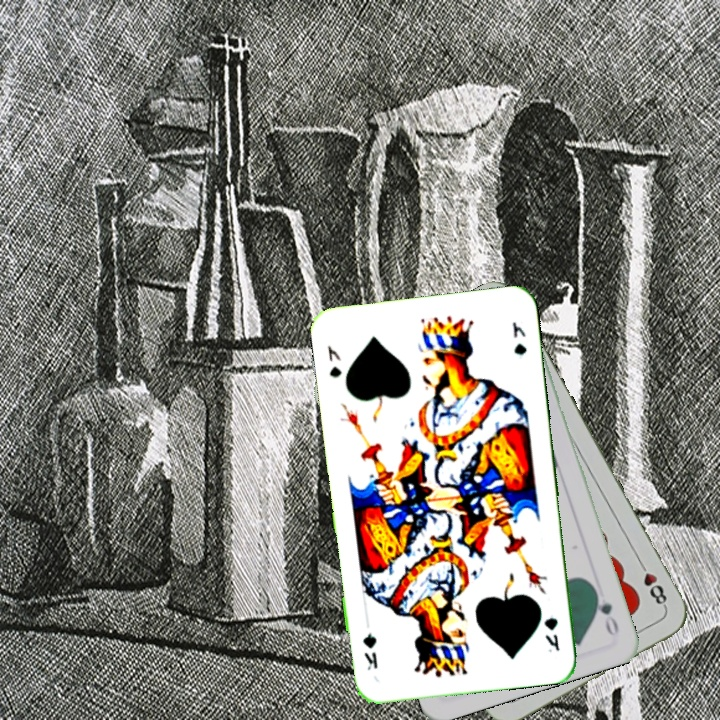GK: (540, 613, 562, 655), (323, 341, 344, 380)
GO: (589, 584, 621, 640)
H8: (634, 557, 670, 611)
